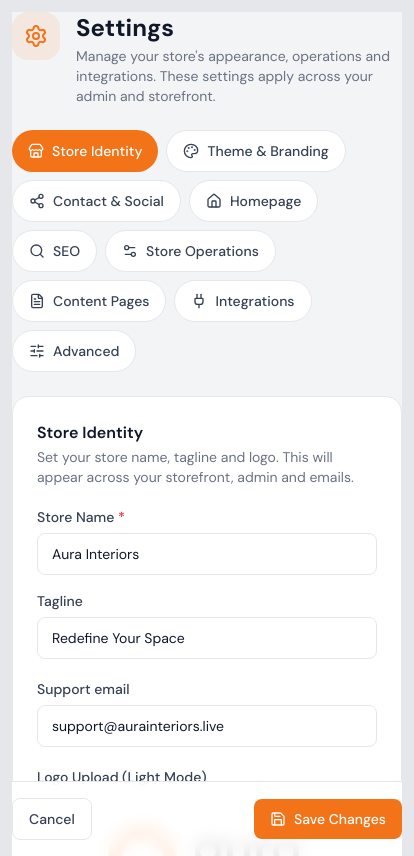
Test case: StoreSettings page (Batch 3d redesign) › Cancel restores the tab fields to the last loaded values
Replace the text in the field named "Store name" with "Changed Name" at (207, 554), box [37,533,377,575]
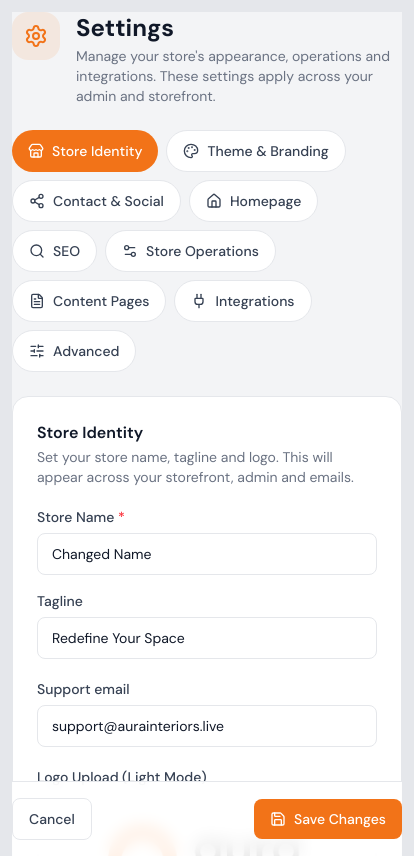
Click the button "Cancel" at (52, 819), box [12,798,92,840]
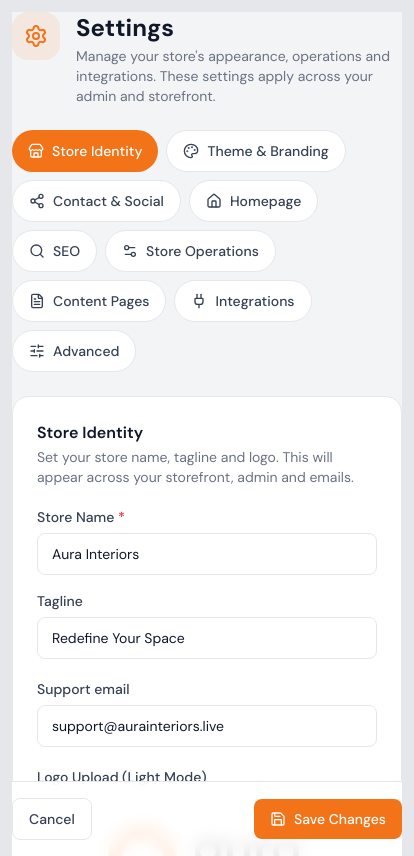
Check: the field named "Store name" holds "Aura Interiors", box [37,533,377,575]
